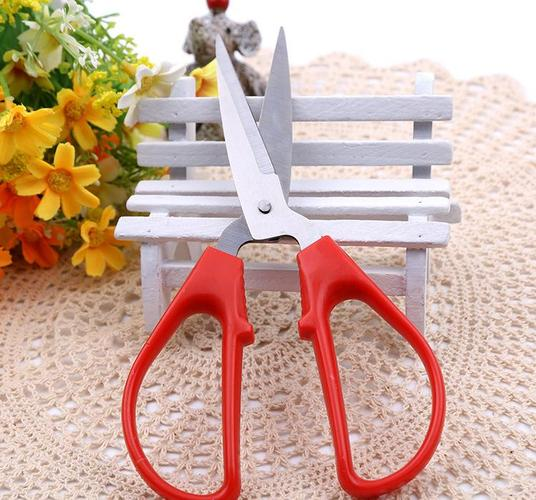scissor: (121, 26, 446, 499)
